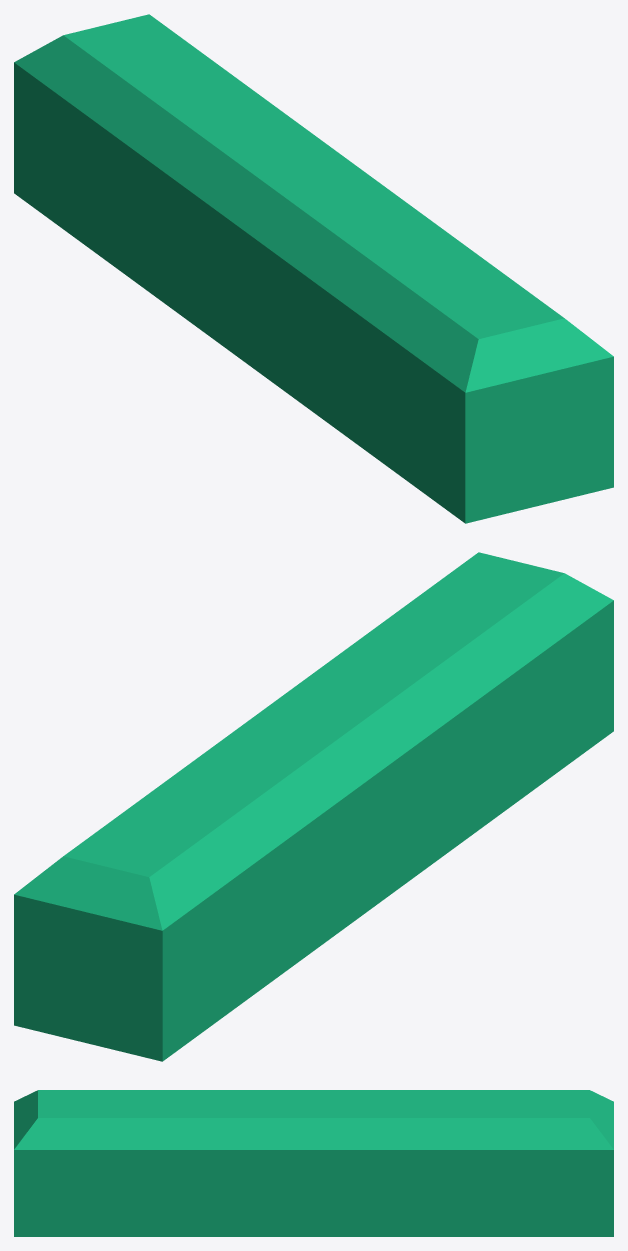
Rendered from d_kenney_haie_ronde.glb.
3 renders of one model, top to bottom at view 1: azimuth 30°, elevation 25°; view 2: azimuth 150°, elevation 25°; view 3: azimuth 270°, elevation 25°, orthographic. The views are drawn at different scales.
Visible parts, largest first — view 1: d_kenney_haie_ronde; view 2: d_kenney_haie_ronde; view 3: d_kenney_haie_ronde.
Part boxes in pixels (bbox=[...]): d_kenney_haie_ronde: bbox=[14, 14, 613, 523]; d_kenney_haie_ronde: bbox=[14, 552, 613, 1061]; d_kenney_haie_ronde: bbox=[14, 1090, 613, 1236].
Bounding box in the file's own units: 0.1899 × 0.2 × 1.
1 material, 1 textured.
